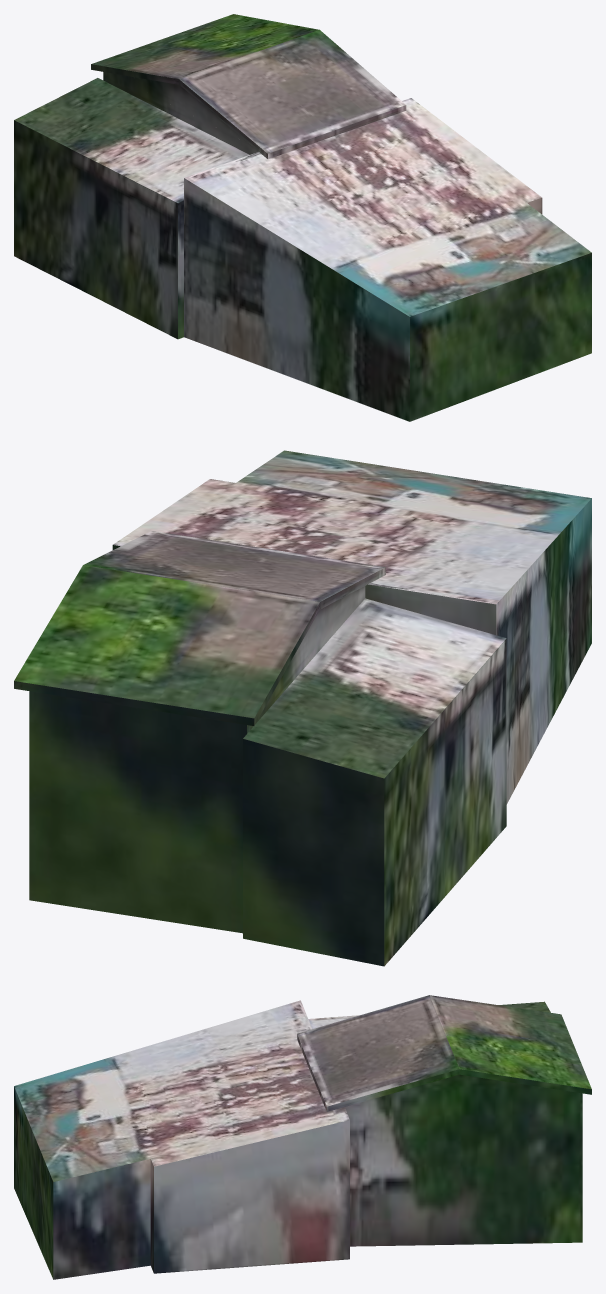
3 views of the same model, one above another, from view 1: azimuth 30°, elevation 25°; view 2: azimuth 150°, elevation 25°; view 3: azimuth 270°, elevation 25° (orthographic). The views are drawn at different scales.
Parts seen in each view (by area): view 1: B290384031201062A0; view 2: B290384031201062A0; view 3: B290384031201062A0.
Boxes of the visible parts, <box> form: B290384031201062A0: <box>14,14,591,421</box>; B290384031201062A0: <box>14,450,591,966</box>; B290384031201062A0: <box>14,995,591,1279</box>.
Bounding box in the file's own units: 7.97 × 4.53 × 12.55.
1 material, 1 textured.
